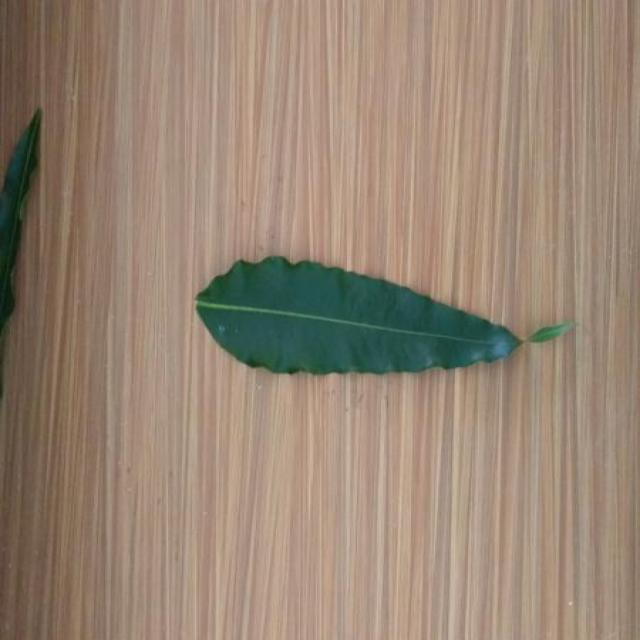ashoka: (197, 256, 572, 374)
